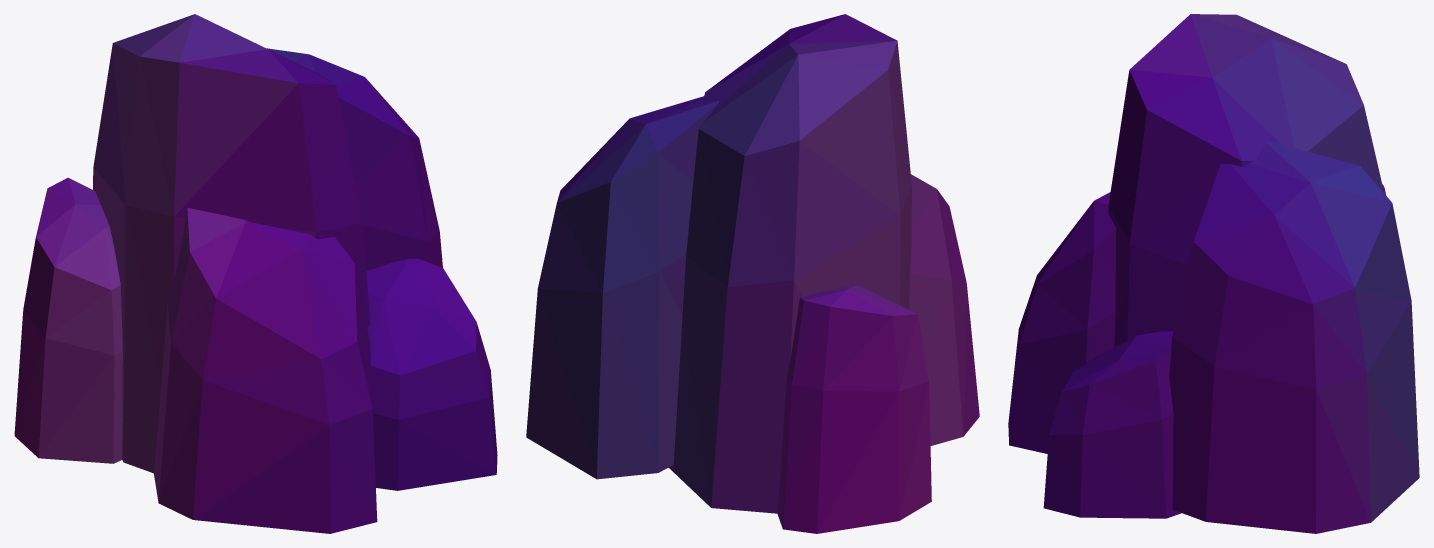
The model's file is SM_CinderCanyon_Rock_D_LOD2.fbx.
The picture shows the model from 3 angles, left to right: view 1: azimuth 30°, elevation 25°; view 2: azimuth 150°, elevation 25°; view 3: azimuth 270°, elevation 25°; orthographic projection. The views are drawn at different scales.
Parts seen in each view (by area): view 1: SM_CinderCanyon_Rock_D_LOD2; view 2: SM_CinderCanyon_Rock_D_LOD2; view 3: SM_CinderCanyon_Rock_D_LOD2.
Boxes of the visible parts, x1,y1,x2,y2 form: SM_CinderCanyon_Rock_D_LOD2: (14,14,497,533); SM_CinderCanyon_Rock_D_LOD2: (526,14,979,533); SM_CinderCanyon_Rock_D_LOD2: (1008,14,1419,533).
Size of the model in its own units: 100 by 96 by 100.
